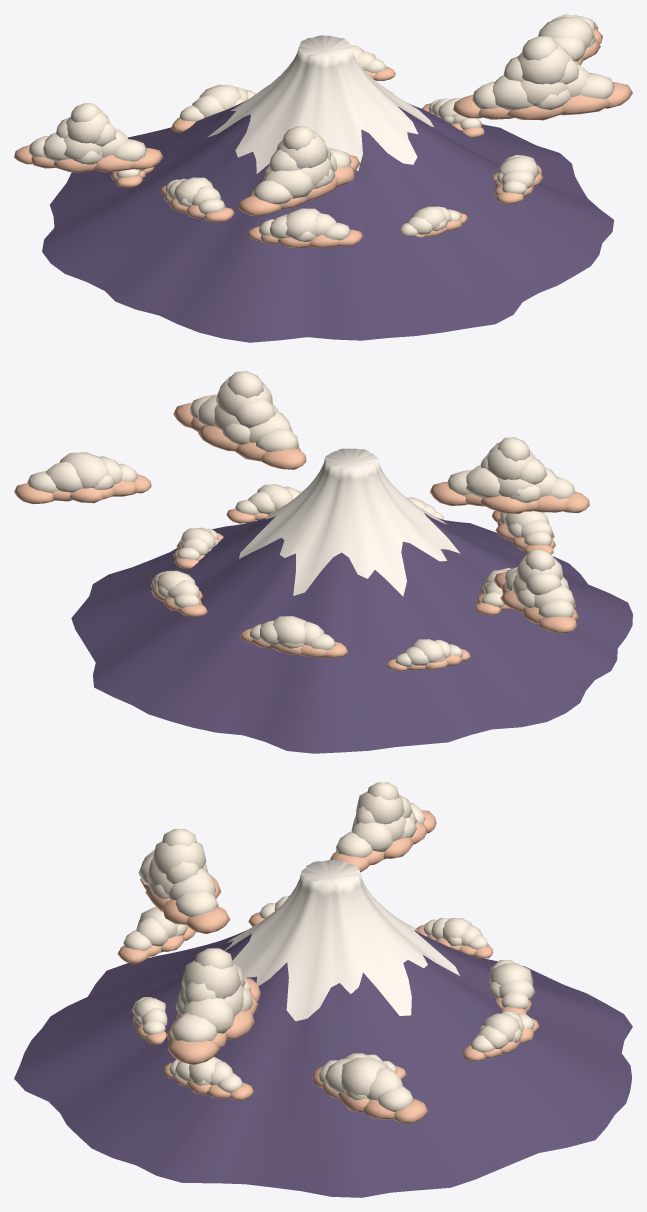
The model's file is mount_fuji.glb.
3 views of the same model, one above another, from view 1: azimuth 30°, elevation 25°; view 2: azimuth 150°, elevation 25°; view 3: azimuth 270°, elevation 25° (orthographic). The views are drawn at different scales.
Visible parts, largest first — view 1: Fuji_Body, Clouds_SunlitTop, Fuji_Snowcap, Clouds_SunsetBase; view 2: Fuji_Body, Clouds_SunlitTop, Fuji_Snowcap, Clouds_SunsetBase; view 3: Fuji_Body, Clouds_SunlitTop, Fuji_Snowcap, Clouds_SunsetBase.
Part boxes in pixels (<box>): Fuji_Body: <box>42,101,614,342</box>; Clouds_SunlitTop: <box>28,14,614,241</box>; Fuji_Snowcap: <box>207,35,433,173</box>; Clouds_SunsetBase: <box>14,22,632,248</box>; Fuji_Body: <box>71,513,632,753</box>; Clouds_SunlitTop: <box>27,371,575,666</box>; Fuji_Snowcap: <box>239,448,460,596</box>; Clouds_SunsetBase: <box>14,403,589,671</box>; Fuji_Body: <box>14,930,632,1197</box>; Clouds_SunlitTop: <box>123,782,535,1111</box>; Fuji_Snowcap: <box>224,860,459,1021</box>; Clouds_SunsetBase: <box>117,810,539,1124</box>.
Size of the model in its own units: 85.15 by 26.42 by 72.98.
